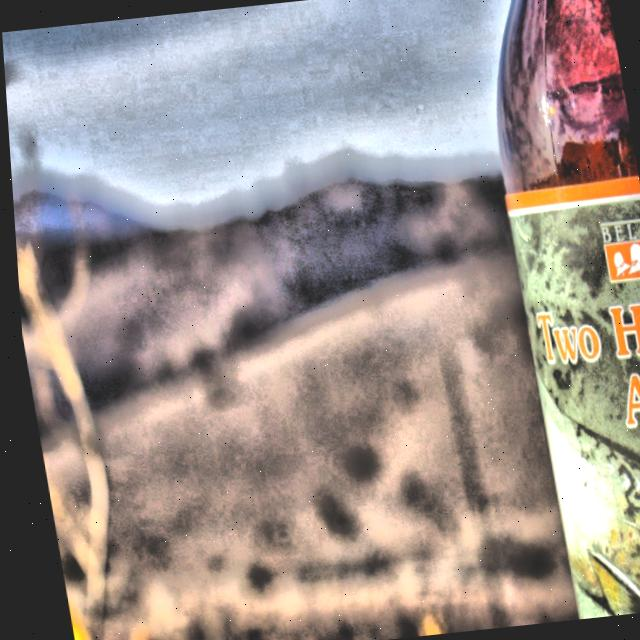glass: (500, 0, 640, 619)
